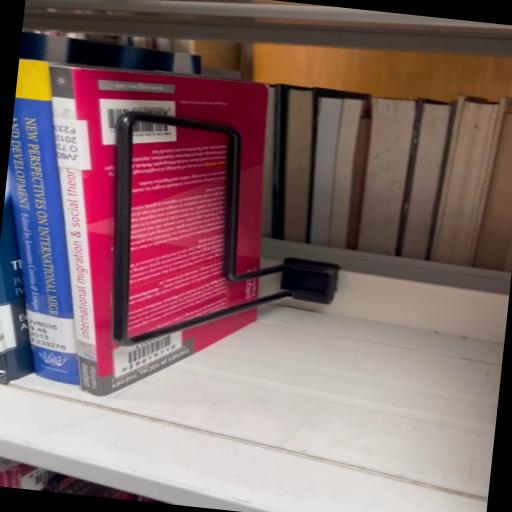reverse: (20, 61, 268, 397)
